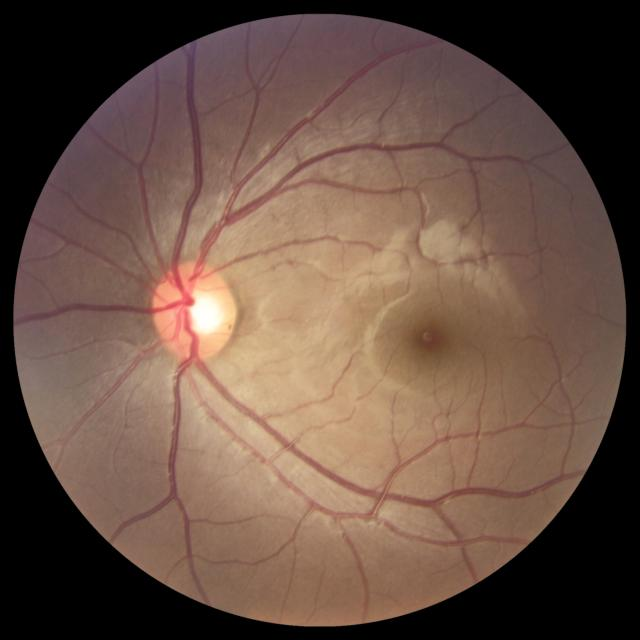OC: (176, 287, 222, 335)
OD: (152, 260, 238, 362)
